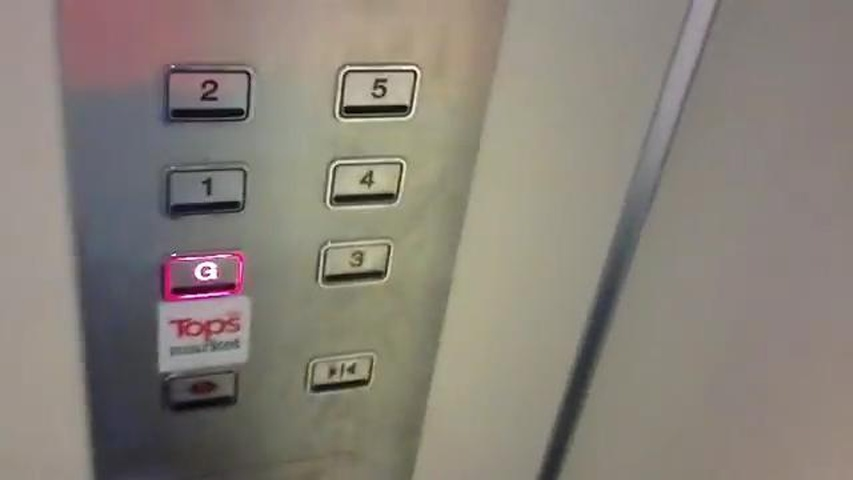1: (161, 157, 250, 221)
2: (158, 60, 256, 127)
3: (312, 234, 396, 292)
4: (322, 152, 407, 213)
5: (329, 59, 423, 125)
G: (158, 250, 249, 301)
close: (300, 349, 377, 398)
open: (159, 367, 241, 414)
